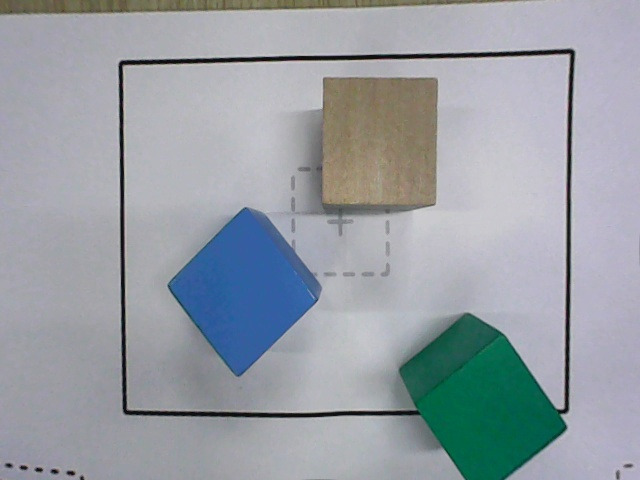upside of big cube: (165, 206, 317, 379), (415, 335, 568, 479), (321, 76, 438, 204)
